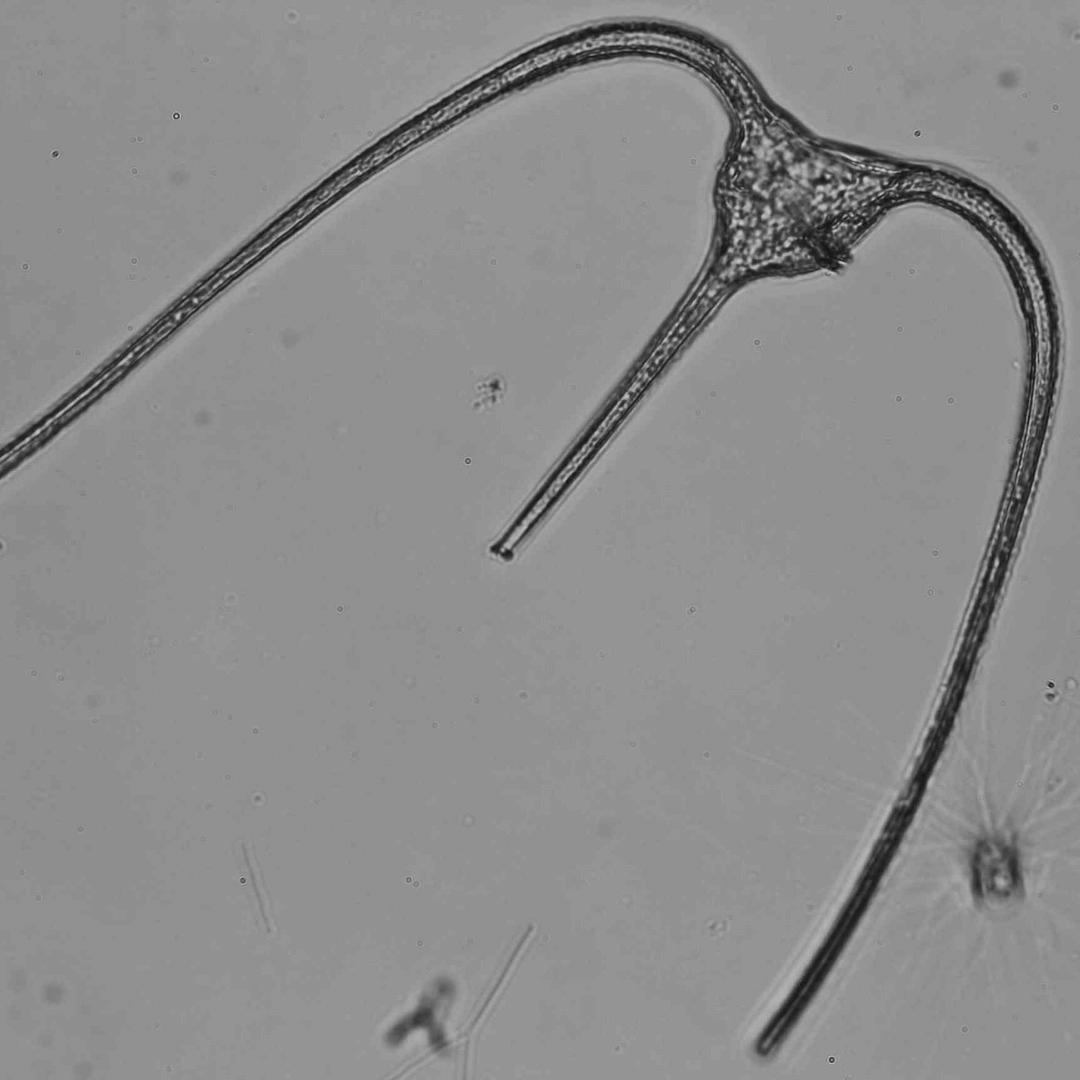ceratium_trichorecos: (0, 21, 1065, 1059)
